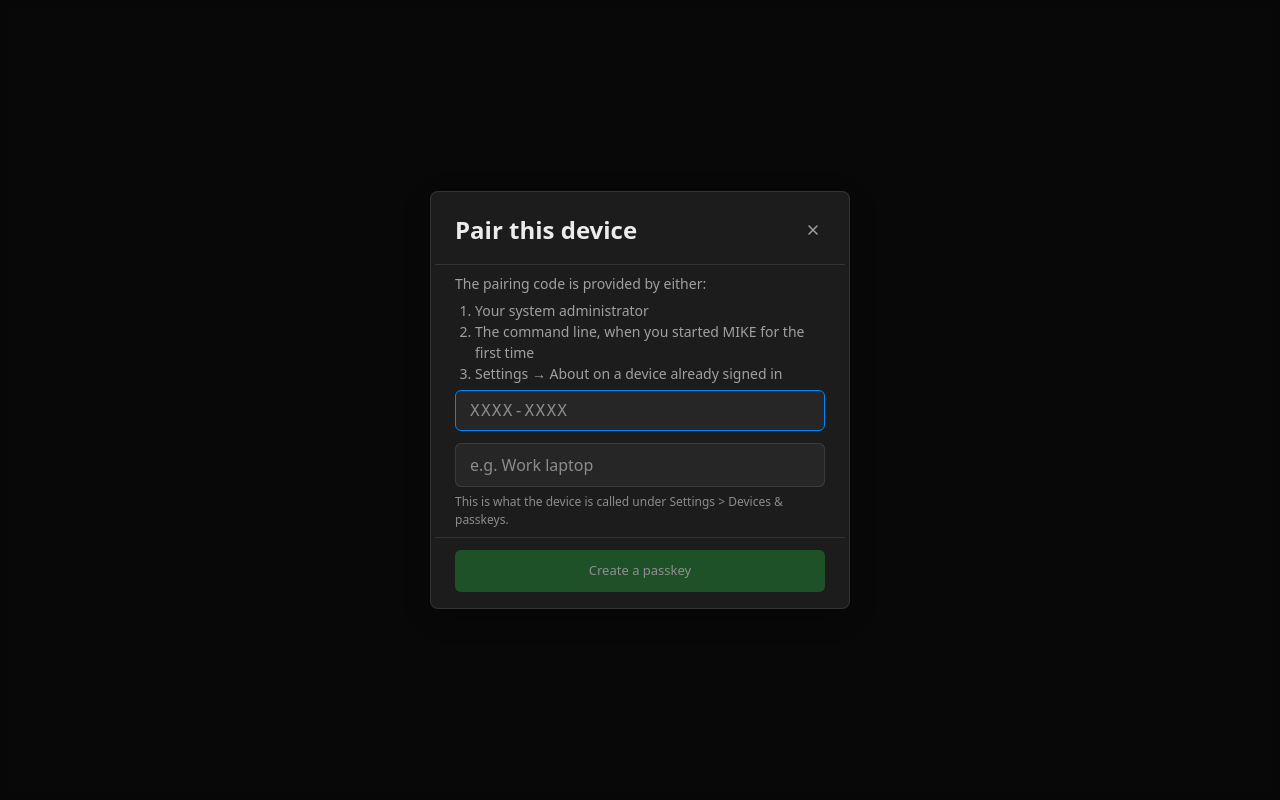
typing a pairing code › spends a backspace on a character when it would only have removed the break
In the field with placeholder "XXXX-XXXX": (640, 411) [455, 390, 825, 431], type "ABCDE"
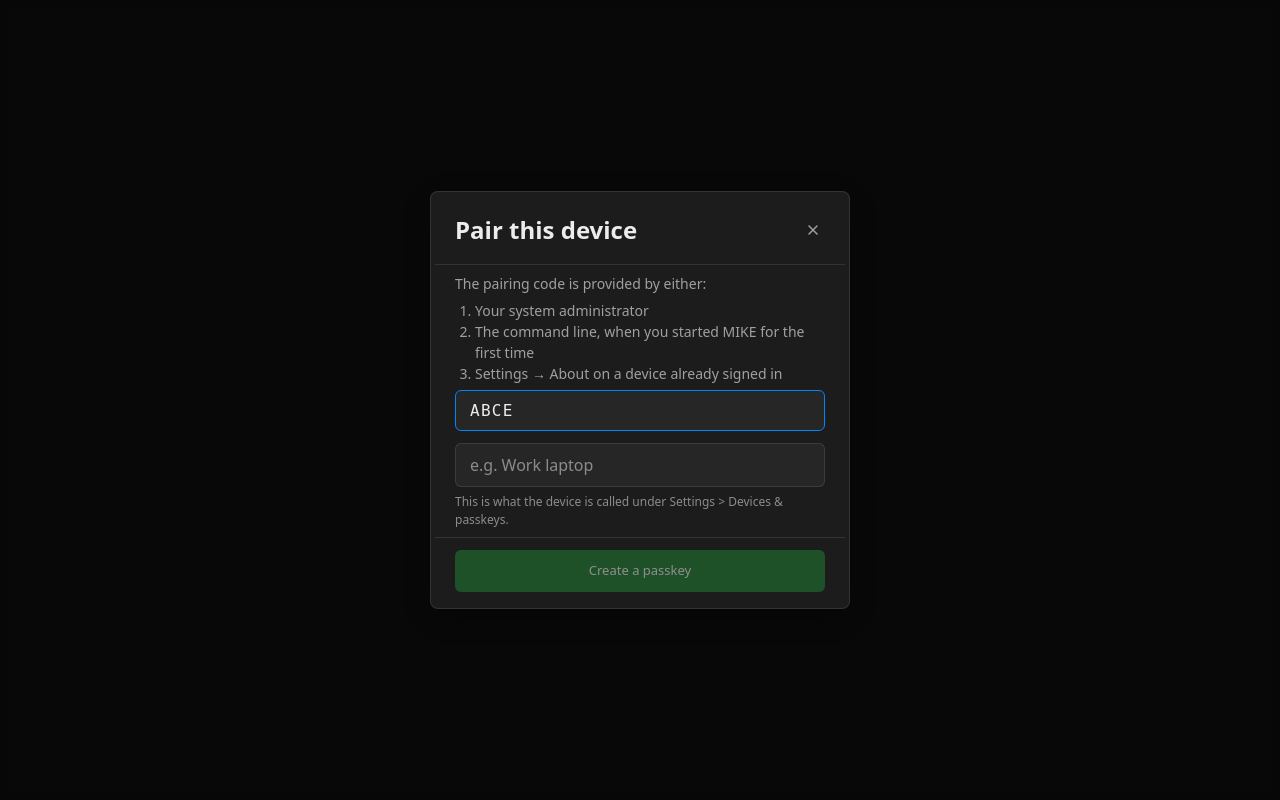
Expected: the field named "Pairing code" holds "ABCE", [455, 390, 825, 431]
